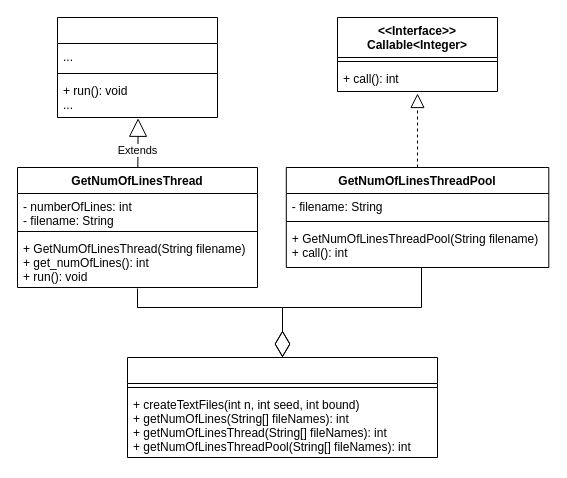
Some shapes in this 567 by 478 pixel diagram are drawn without their labels. The shapes that lost their labels are listed below. From the top down, each one's box as (x1, y1, x2, y2) in pixels, then its label:
(56, 16, 218, 118): Thread
(126, 356, 438, 458): Ex2_1
